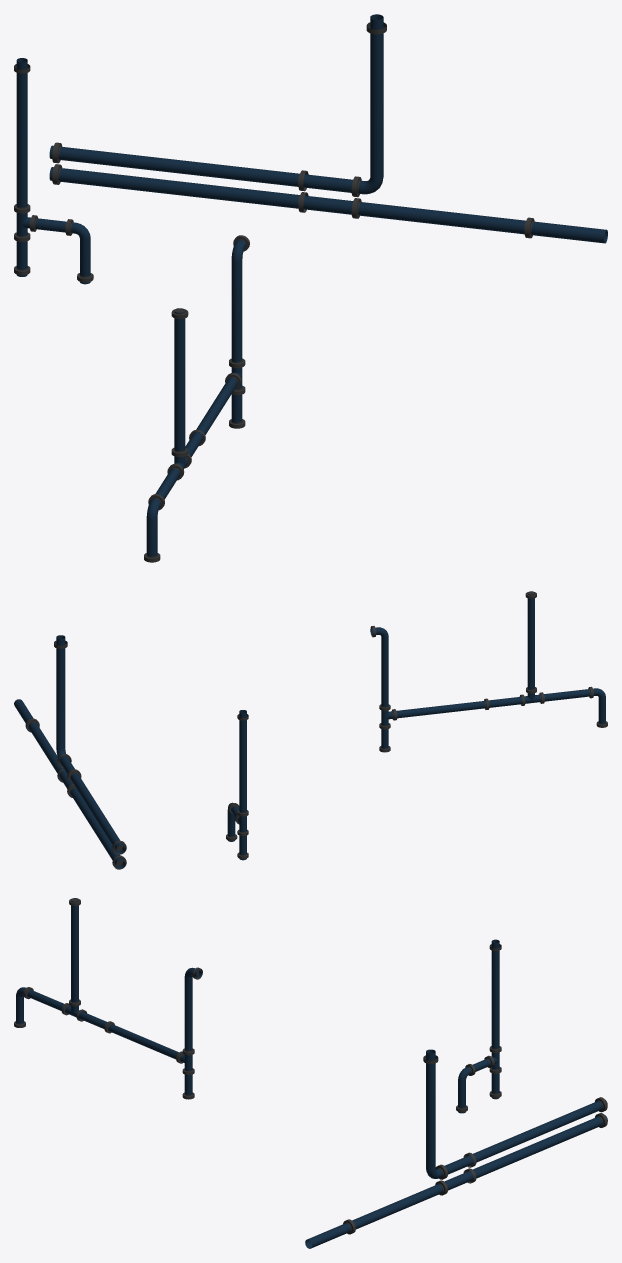
File: SM_H_Building_Tide_DeepJail_09b_ATLAS.fbx
3 renders of one model, top to bottom at view 1: azimuth 30°, elevation 25°; view 2: azimuth 150°, elevation 25°; view 3: azimuth 270°, elevation 25°, orthographic. The views are drawn at different scales.
Visible parts, largest first — view 1: SM_H_Building_Tide_DeepJail_09b_ATLAS; view 2: SM_H_Building_Tide_DeepJail_09b_ATLAS; view 3: SM_H_Building_Tide_DeepJail_09b_ATLAS.
Boxes of the visible parts, <box> form: SM_H_Building_Tide_DeepJail_09b_ATLAS: <box>14,14,607,562</box>; SM_H_Building_Tide_DeepJail_09b_ATLAS: <box>14,591,607,869</box>; SM_H_Building_Tide_DeepJail_09b_ATLAS: <box>14,898,607,1248</box>.
Bounding box in the file's own units: 1821 × 1939 × 563.
